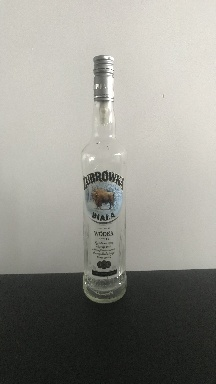butelka: (79, 52, 128, 306)
